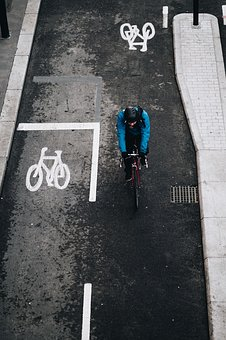bikerider: (108, 101, 158, 208)
